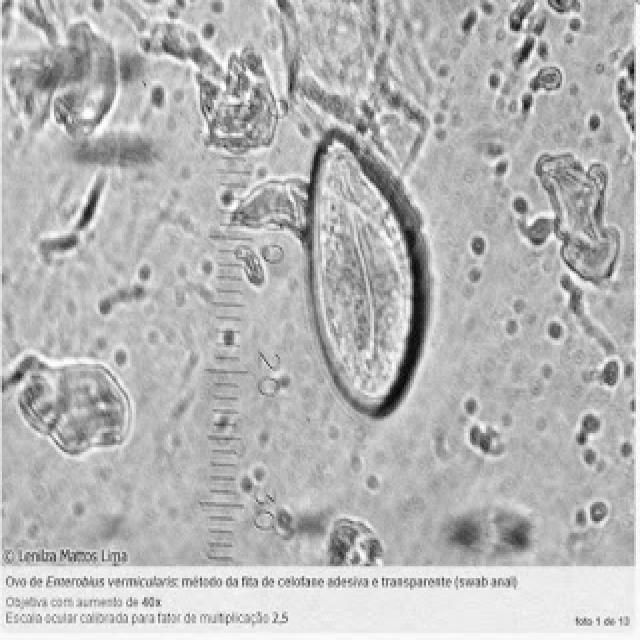Enterobius Vermicularis: (303, 125, 433, 429)
